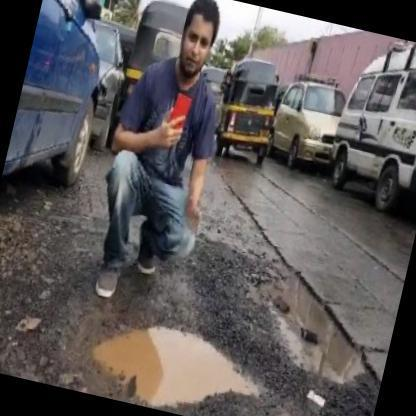pothole: (85, 313, 262, 411), (258, 262, 368, 385)
